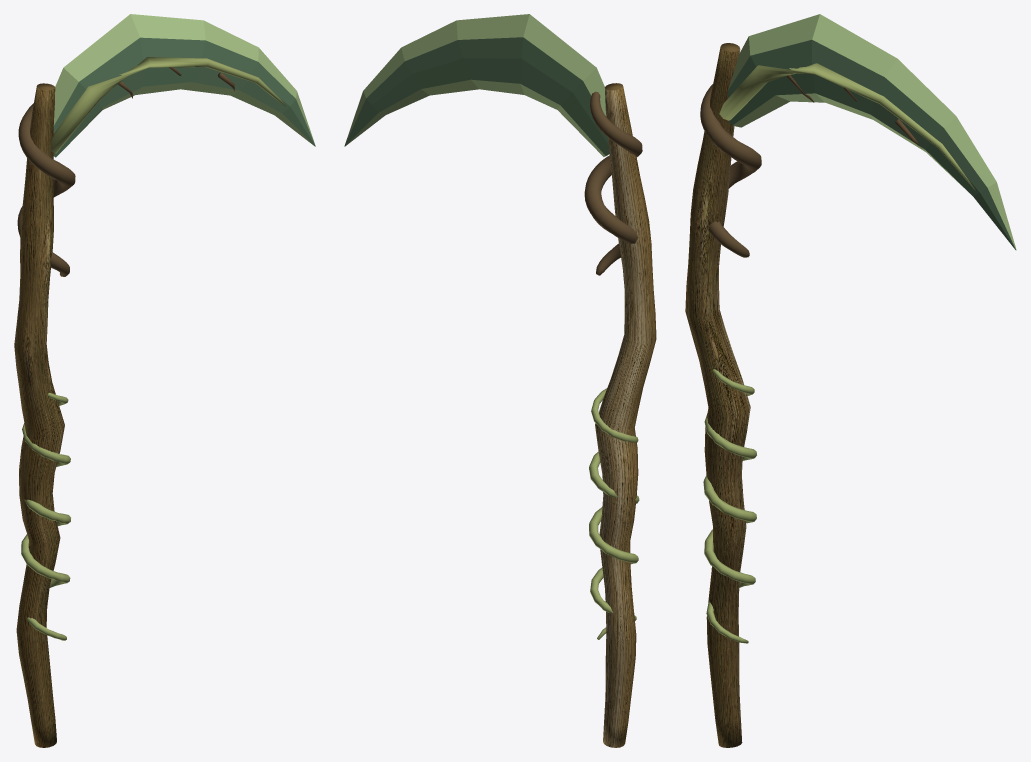
Rendered from harvest_scythe.glb.
The picture shows the model from 3 angles, left to right: view 1: azimuth 30°, elevation 25°; view 2: azimuth 150°, elevation 25°; view 3: azimuth 330°, elevation 25°; orthographic projection. The views are drawn at different scales.
Parts seen in each view (by area): view 1: HarvestScythe; view 2: HarvestScythe; view 3: HarvestScythe.
Part boxes in pixels (bbox=[...]): HarvestScythe: bbox=[14, 14, 315, 747]; HarvestScythe: bbox=[344, 14, 656, 747]; HarvestScythe: bbox=[685, 14, 1016, 747].
Bounding box in the file's own units: 0.8652 × 1.92 × 0.1456.
5 materials, 1 textured.
